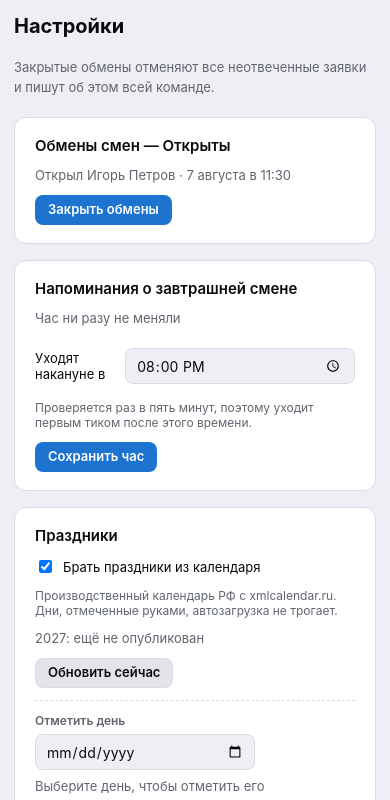
Scenario: SettingsScreen › подтверждение закрывает обмены и называет цену
This screenshot has width=390, height=800.
Click the button "Закрыть обмены" at [103, 210], box left=35, top=195, right=172, bottom=225
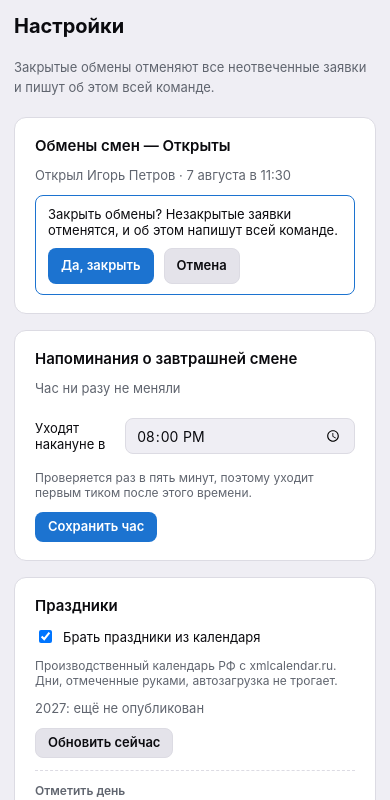
Click the button "Да, закрыть" at [101, 266], box left=48, top=248, right=154, bottom=284
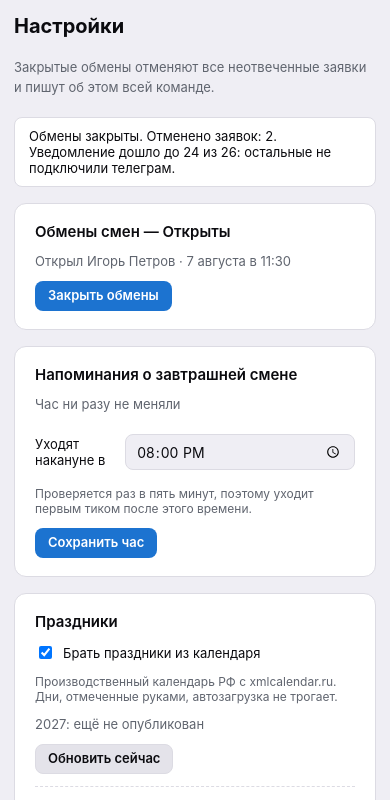
Check: the text "2" is shown, box left=29, top=128, right=331, bottom=176
Check: the text "24" is shown, box left=29, top=128, right=331, bottom=176
Check: the text "26" is shown, box left=29, top=128, right=331, bottom=176
